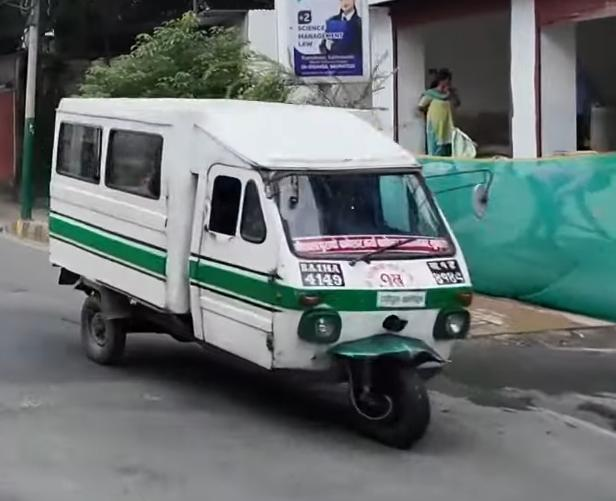tempo: (36, 88, 476, 456)
